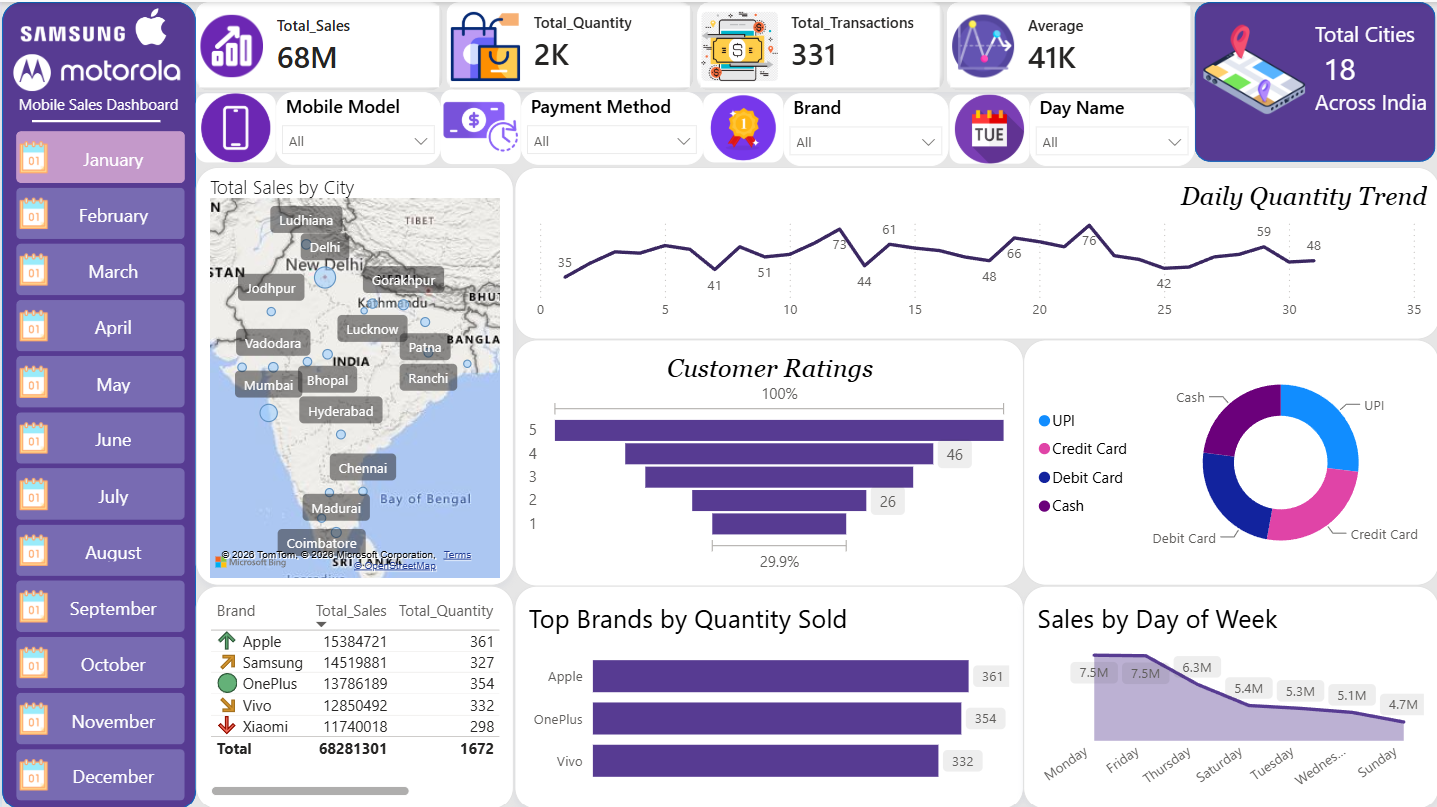

The dashboard page shown, as its layout file describes it:
{"tool":"powerbi","page":{"name":"Page 1","canvas":[1280,720],"ordinal":0},"visuals":[{"type":"shape","box":[0,0,172.9,720],"z":0},{"type":"image","box":[17.1,6.1,92.9,45.7],"z":1000},{"type":"image","box":[110.1,6.1,45.2,33],"z":2000},{"type":"image","box":[10,34.3,148.6,57.1],"z":3000},{"type":"textbox","box":[9.7,77.2,162.9,32.6],"z":4000},{"type":"advancedSlicerVisual","fields":{"Values":["SALES_DATA.Date.Variation.Date Hierarchy.Month"]},"box":[7.2,109.8,160.5,610.5],"z":5000},{"type":"cardVisual","fields":{"Data":["SALES_DATA.Total_Sales1","SALES_DATA.Total_Quantity","SALES_DATA.Total_Transactions","SALES_DATA.Average"]},"box":[172.5,0,892.8,79.6],"z":6000},{"type":"map","title":"Total Sales by City","fields":{"Category":["SALES_DATA.City"],"Size":["Sum(SALES_DATA.Total_sales)"]},"box":[172.5,147.2,283.5,372.8],"z":7000},{"type":"lineChart","title":"Daily Quantity Trend","fields":{"Category":["SALES_DATA.Date.Variation.Date Hierarchy.Year","SALES_DATA.Date.Variation.Date Hierarchy.Month","SALES_DATA.Date.Variation.Date Hierarchy.Day"],"Y":["SALES_DATA.Total_Quantity"]},"box":[456,147.2,824,153.2],"z":8000},{"type":"funnel","title":"Customer Ratings","fields":{"Category":["SALES_DATA.Customer Ratings"],"Y":["CountNonNull(SALES_DATA.Customer Ratings)"]},"box":[456.2,300.4,453.8,220],"z":9000},{"type":"donutChart","fields":{"Category":["SALES_DATA.Payment Method"],"Y":["SALES_DATA.Total_Transactions"]},"box":[909.7,300.4,370.4,219.6],"z":10000},{"type":"clusteredBarChart","title":"Top Brands by Quantity Sold","fields":{"Category":["SALES_DATA.Brand"],"Y":["SALES_DATA.Total_Quantity"]},"box":[456,520,453.8,200],"z":11000},{"type":"areaChart","title":"Sales by Day of Week","fields":{"Category":["SALES_DATA.Day Name"],"Y":["SALES_DATA.Total_Sales"]},"box":[909.7,520,370.4,200.3],"z":12000},{"type":"tableEx","fields":{"Values":["SALES_DATA.Brand","SALES_DATA.Total_Sales","SALES_DATA.Total_Quantity","SALES_DATA.Total_Transactions"]},"box":[172.5,520,283.5,200.3],"z":13000},{"type":"shape","box":[26.5,94.1,114.6,22.9],"z":14000},{"type":"slicer","fields":{"Values":["SALES_DATA.Mobile Model"]},"box":[243.7,79.6,147.2,65.1],"z":15000},{"type":"image","box":[172.5,80.8,71.2,61.5],"z":16000},{"type":"slicer","fields":{"Values":["SALES_DATA.Payment Method"]},"box":[462.1,79.6,162.9,65.1],"z":17000},{"type":"image","box":[390.9,78.4,71.2,66.4],"z":18000},{"type":"shape","box":[1061.7,0,214.7,142.4],"z":18500},{"type":"image","box":[624.9,80.8,71.2,61.5],"z":19000},{"type":"image","box":[843.3,82,71.2,61.5],"z":20000},{"type":"slicer","fields":{"Values":["SALES_DATA.Brand"]},"box":[696.1,80.8,147.2,65.1],"z":21000},{"type":"slicer","fields":{"Values":["SALES_DATA.Day Name"]},"box":[914.5,80.8,147.2,65.1],"z":23000},{"type":"image","box":[1030.3,9.7,168.9,100.1],"z":24500},{"type":"textbox","box":[1164.2,10.9,112.2,136.3],"z":26001}]}

Visuals, with their boxes in screenshot pixels (x1, y1, x2, y2), scaled from the page's 1280x720 canvas onto the 1437x807 screenshot:
shape: <bbox>0, 0, 194, 806</bbox>
image: <bbox>19, 7, 123, 58</bbox>
image: <bbox>124, 7, 174, 44</bbox>
image: <bbox>11, 38, 178, 102</bbox>
textbox: <bbox>11, 87, 194, 123</bbox>
advancedSlicerVisual - SALES_DATA.Date.Variation.Date Hierarchy.Month: <bbox>8, 123, 188, 806</bbox>
cardVisual - SALES_DATA.Total_Sales1 x SALES_DATA.Total_Quantity: <bbox>194, 0, 1196, 89</bbox>
"Total Sales by City" map: <bbox>194, 165, 512, 583</bbox>
"Daily Quantity Trend" lineChart: <bbox>512, 165, 1436, 337</bbox>
"Customer Ratings" funnel: <bbox>512, 337, 1022, 583</bbox>
donutChart - SALES_DATA.Payment Method x SALES_DATA.Total_Transactions: <bbox>1021, 337, 1436, 583</bbox>
"Top Brands by Quantity Sold" clusteredBarChart: <bbox>512, 583, 1021, 806</bbox>
"Sales by Day of Week" areaChart: <bbox>1021, 583, 1436, 806</bbox>
tableEx - SALES_DATA.Brand x SALES_DATA.Total_Sales: <bbox>194, 583, 512, 806</bbox>
shape: <bbox>30, 105, 158, 131</bbox>
slicer - SALES_DATA.Mobile Model: <bbox>274, 89, 439, 162</bbox>
image: <bbox>194, 91, 274, 159</bbox>
slicer - SALES_DATA.Payment Method: <bbox>519, 89, 702, 162</bbox>
image: <bbox>439, 88, 519, 162</bbox>
shape: <bbox>1192, 0, 1433, 160</bbox>
image: <bbox>702, 91, 781, 159</bbox>
image: <bbox>947, 92, 1027, 161</bbox>
slicer - SALES_DATA.Brand: <bbox>781, 91, 947, 164</bbox>
slicer - SALES_DATA.Day Name: <bbox>1027, 91, 1192, 164</bbox>
image: <bbox>1157, 11, 1346, 123</bbox>
textbox: <bbox>1307, 12, 1433, 165</bbox>
